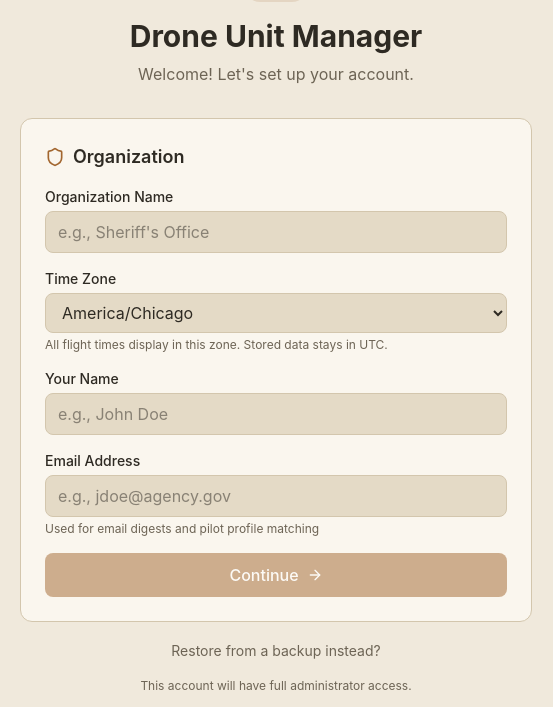
Scenario: SetupPage › reveals the restore-from-backup panel on demand
(page scrolled)
Click the button "Restore from a backup instead?": point(276, 651) [20, 641, 532, 661]
(page scrolled)
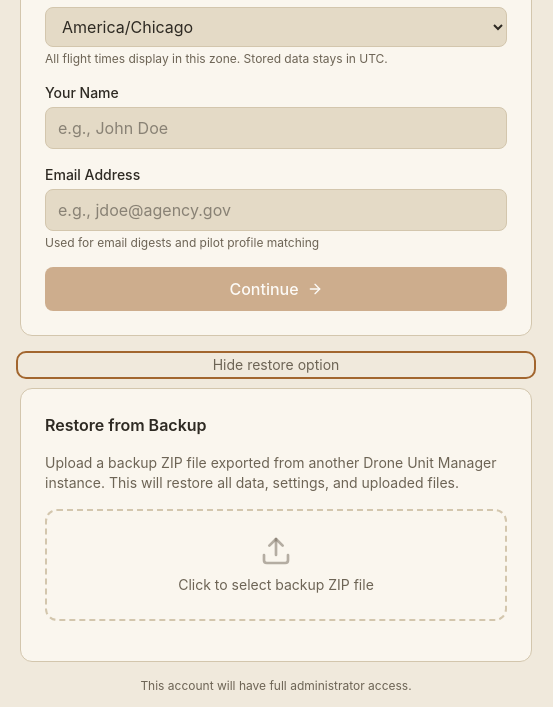
Now the heading "Restore from Backup" is shown, box [45, 415, 207, 435]
